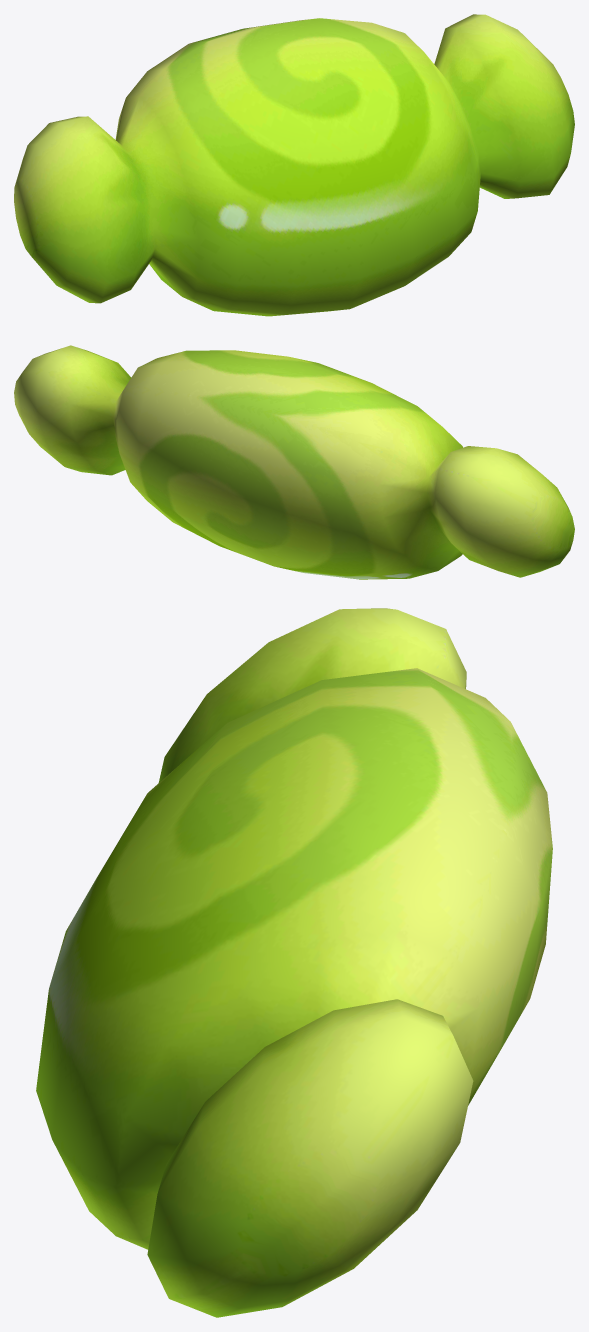
Rendered from candies4.fbx.
3 views of the same model, one above another, from view 1: azimuth 30°, elevation 25°; view 2: azimuth 150°, elevation 25°; view 3: azimuth 270°, elevation 25° (orthographic). The views are drawn at different scales.
Parts seen in each view (by area): view 1: candies4; view 2: candies4; view 3: candies4.
Part boxes in pixels (x1,y1,x2,y2): candies4: (14,14,574,316); candies4: (14,345,574,579); candies4: (36,608,552,1317).
Size of the model in its own units: 265 by 111 by 111.
Materials: 1 (1 with a texture image).
